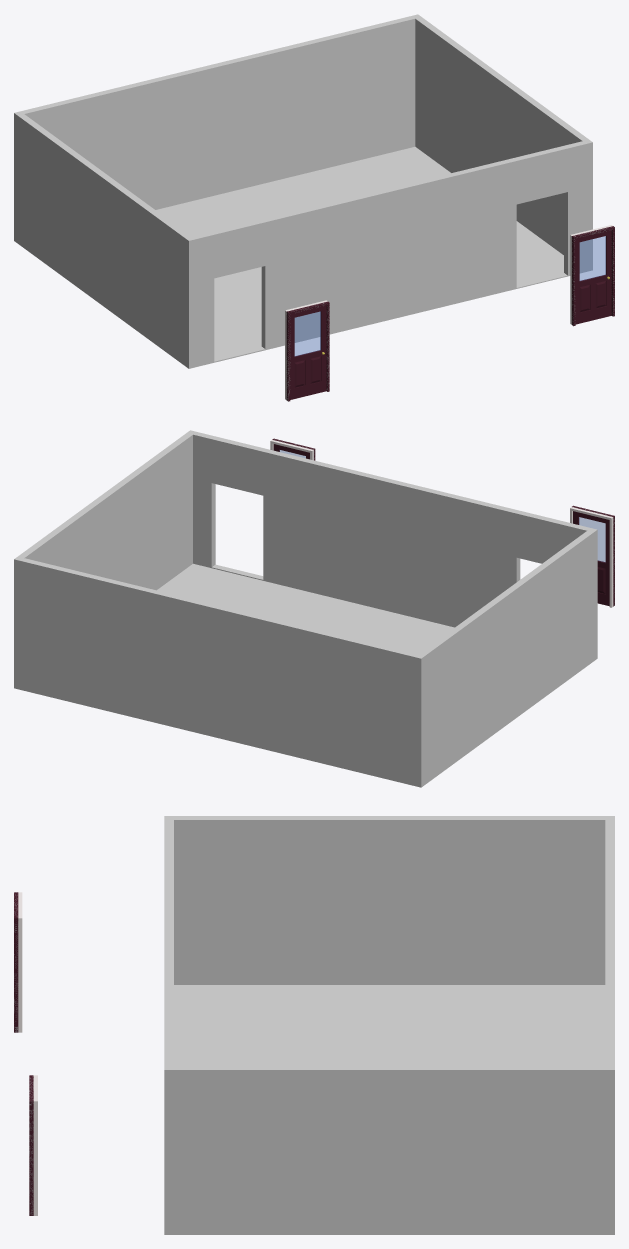
3 renders of one model, top to bottom at view 1: azimuth 30°, elevation 25°; view 2: azimuth 150°, elevation 25°; view 3: azimuth 270°, elevation 25°, orthographic. The views are drawn at different scales.
Parts seen in each view (by area): view 1: SketchUp (×4), group_4 (×2), group_3 (×2), group_1 (×2); view 2: SketchUp (×3), group_4, group_2; view 3: SketchUp (×2), group_1 (×2), group_2 (×2).
Boxes of the visible parts, left/top/right/bottom form: SketchUp (×4): left=14, top=14, right=592, bottom=368; group_4 (×2): left=290, top=230, right=611, bottom=399; group_3 (×2): left=295, top=236, right=605, bottom=356; group_1 (×2): left=286, top=226, right=614, bottom=401; SketchUp (×3): left=14, top=430, right=597, bottom=787; group_4: left=573, top=511, right=609, bottom=606; group_2: left=570, top=507, right=613, bottom=607; SketchUp (×2): left=164, top=816, right=614, bottom=1234; group_1 (×2): left=14, top=892, right=33, bottom=1215; group_2 (×2): left=18, top=892, right=37, bottom=1215.
Size of the model in its own units: 390 by 390 by 118.
